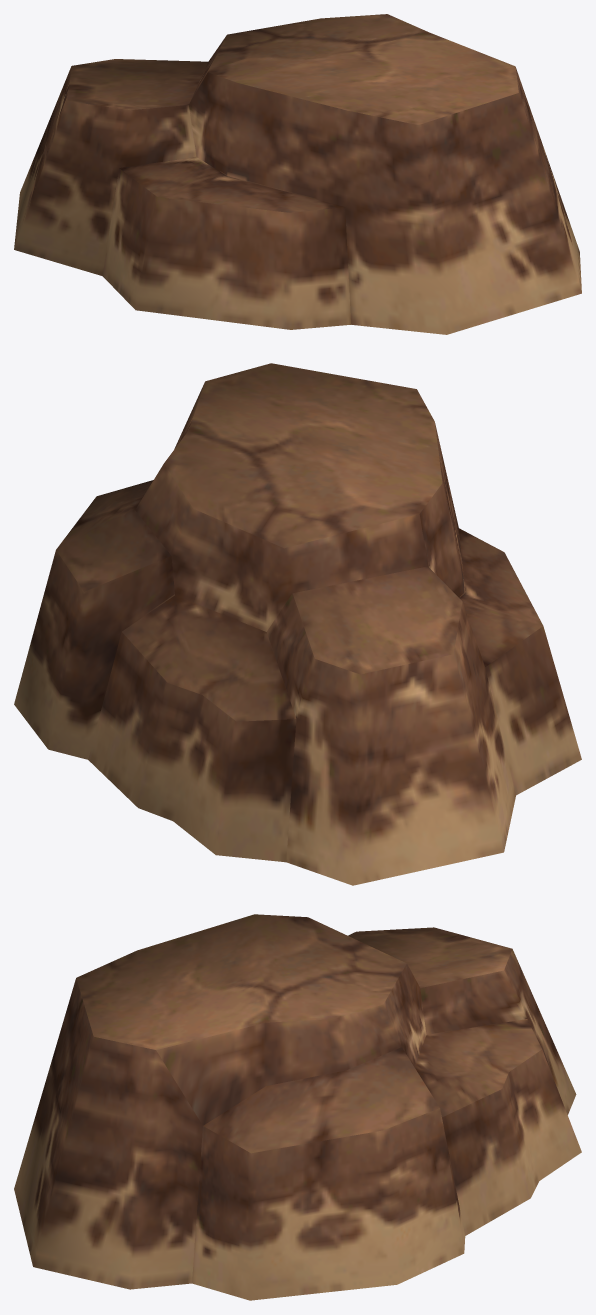
File: Item_5008_shitou_shitou05.FBX
3 views of the same model, one above another, from view 1: azimuth 30°, elevation 25°; view 2: azimuth 150°, elevation 25°; view 3: azimuth 270°, elevation 25° (orthographic). The views are drawn at different scales.
Parts seen in each view (by area): view 1: Item_5008_shitou_shitou05; view 2: Item_5008_shitou_shitou05; view 3: Item_5008_shitou_shitou05.
Boxes of the visible parts, x1,y1,x2,y2 form: Item_5008_shitou_shitou05: (14, 14, 581, 334); Item_5008_shitou_shitou05: (14, 363, 581, 885); Item_5008_shitou_shitou05: (14, 914, 581, 1300).
Bounding box in the file's own units: 592 × 252 × 590.
